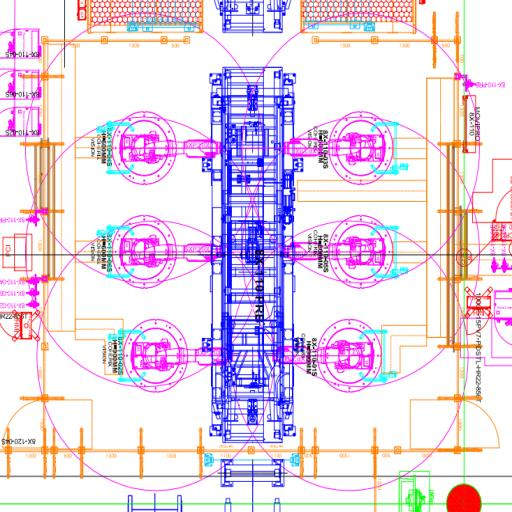robot: (280, 102, 402, 197), (118, 315, 239, 403), (270, 313, 388, 397), (282, 210, 399, 293), (106, 211, 224, 292), (111, 105, 225, 187)
